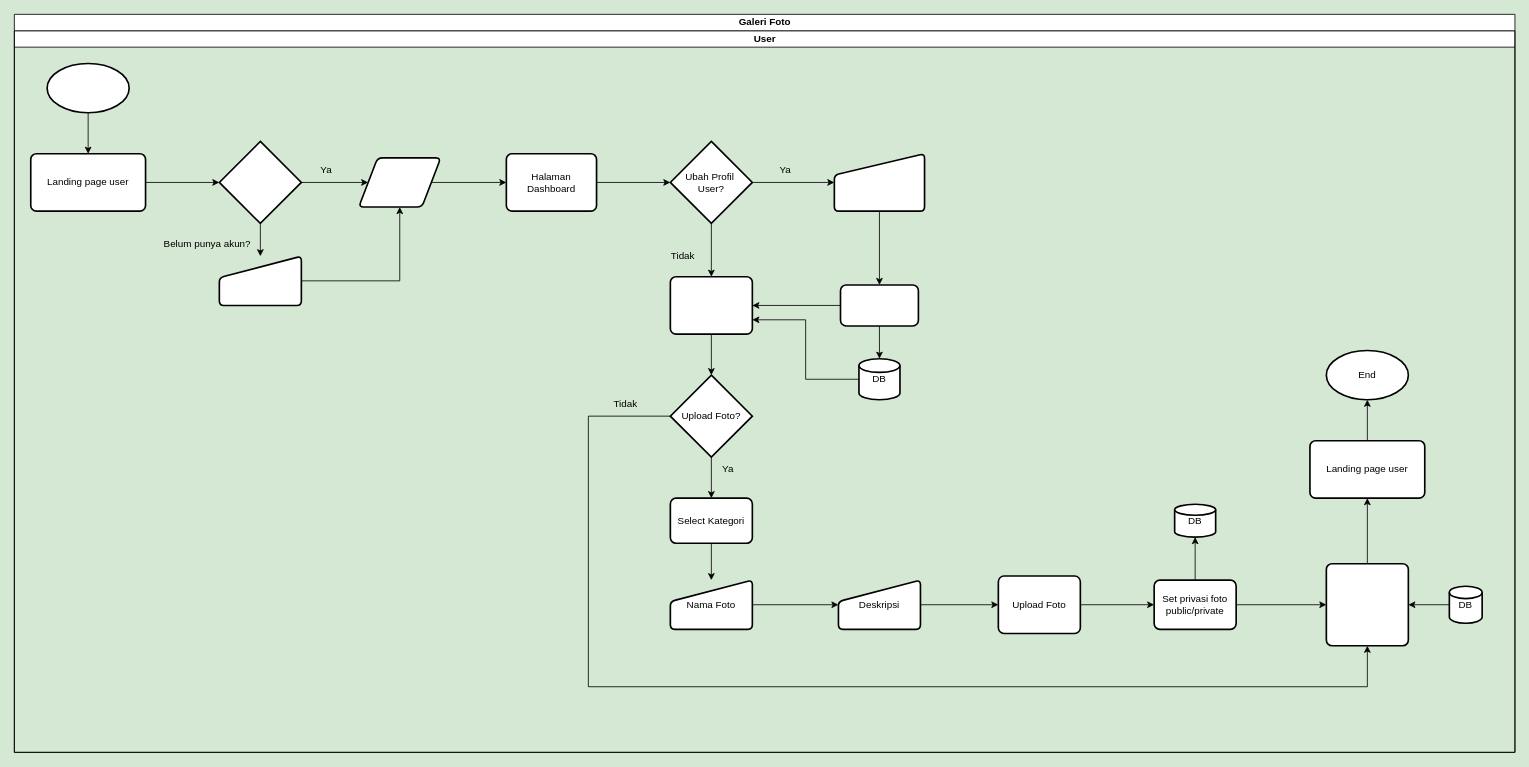
Some shapes in this 1529 by 767 pixel diagram are drawn without their labels. The centre of each missing label's shape, as x and y in pixels:
"Data Foto" goes at [711,305].
"Data Semua Foto" goes at [1367,604].
"Login?" goes at [260,182].
"Registrasi" goes at [260,280].
"Simpan Data" goes at [879,305].
"Start" goes at [88,87].
"Ubah Informasi user" goes at [879,182].
"Validasi Login" goes at [399,182].
